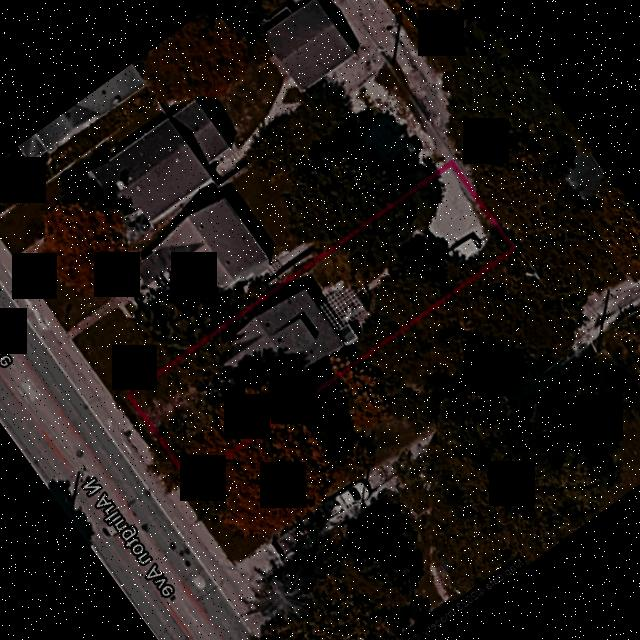Driveway: (425, 167, 500, 266), (361, 266, 391, 293)
House: (214, 288, 342, 396)
Other: (275, 273, 370, 346)
